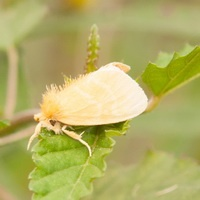insect: (40, 62, 147, 129)
